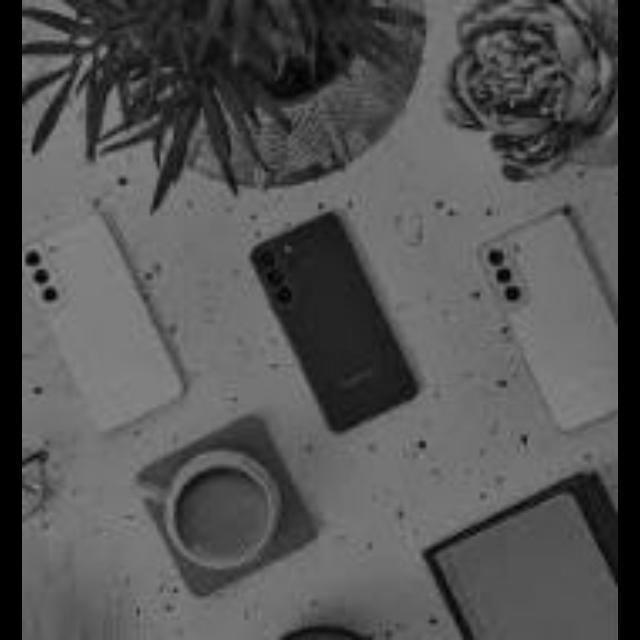fake: (22, 206, 196, 432), (247, 206, 417, 434), (461, 194, 618, 436), (424, 478, 630, 640)
